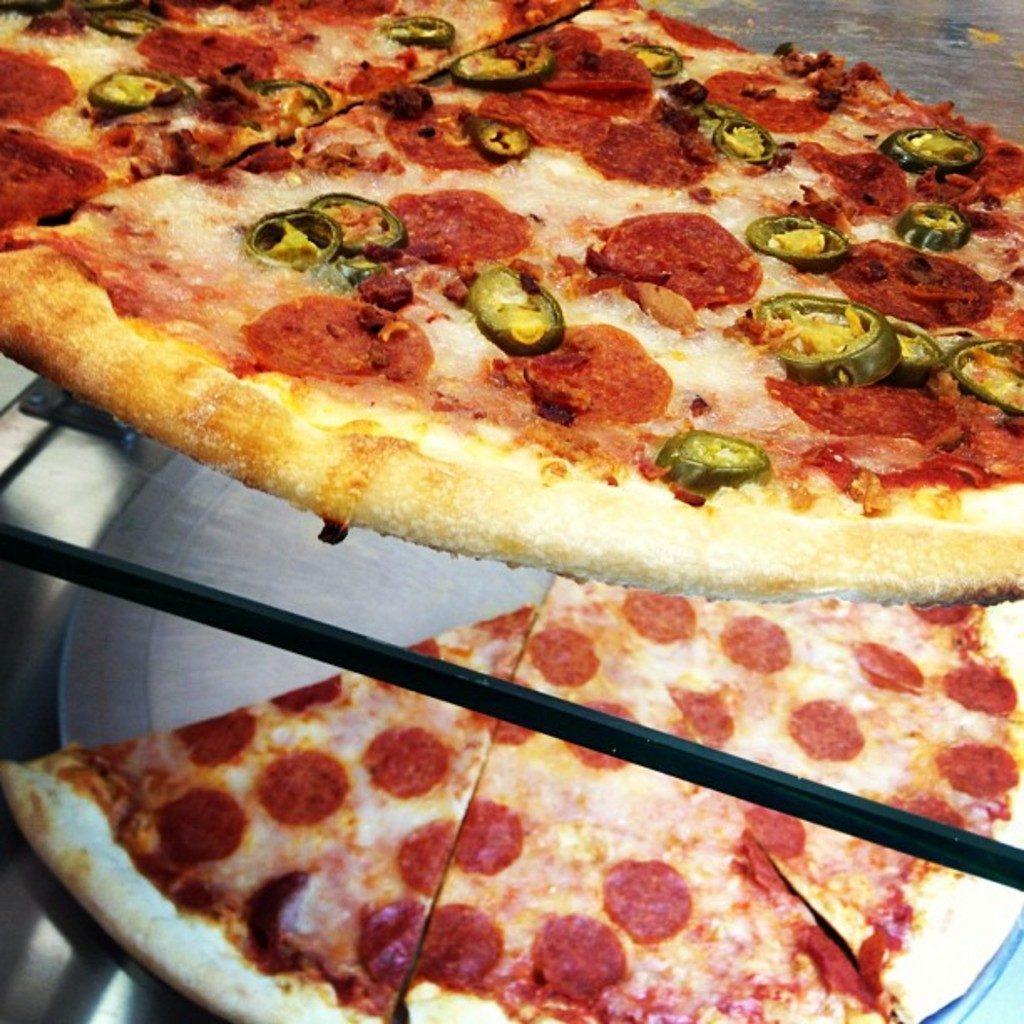Pizza: (1, 53, 1013, 610), (0, 587, 1022, 1022), (6, 0, 587, 239)
